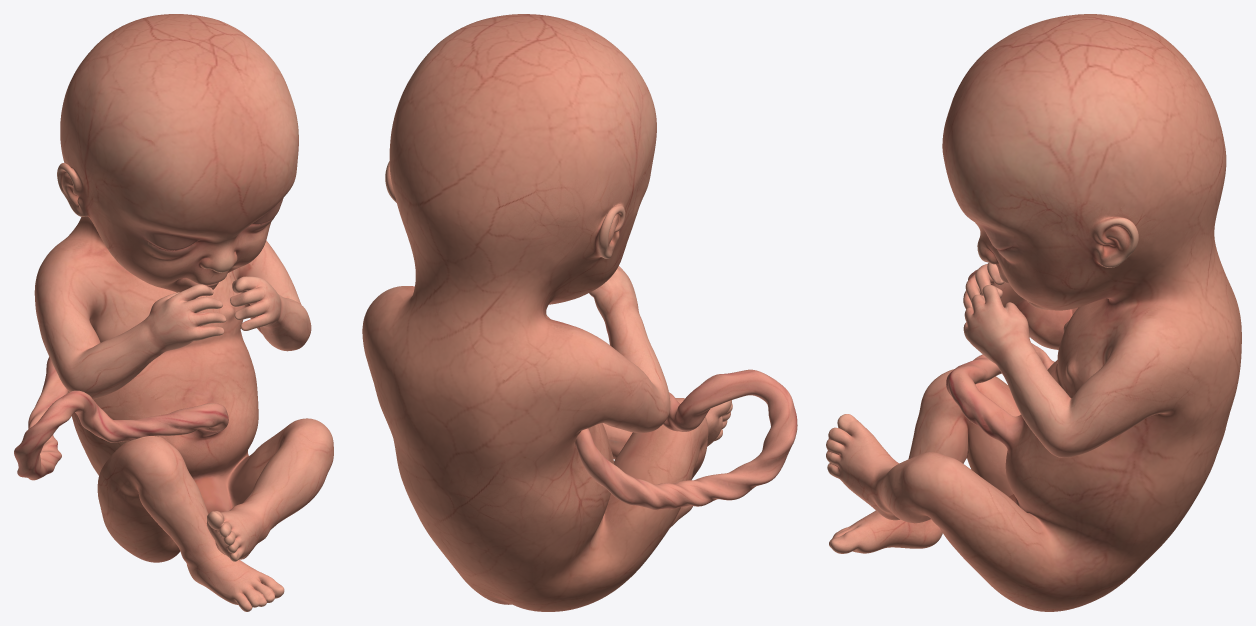
The model's file is semaine-15.glb.
3 views of the same model, side by side, from view 1: azimuth 30°, elevation 25°; view 2: azimuth 150°, elevation 25°; view 3: azimuth 270°, elevation 25° (orthographic). The views are drawn at different scales.
Bounding box in the file's own units: 1.24 × 1.9 × 1.26.
1 material, 1 textured.
